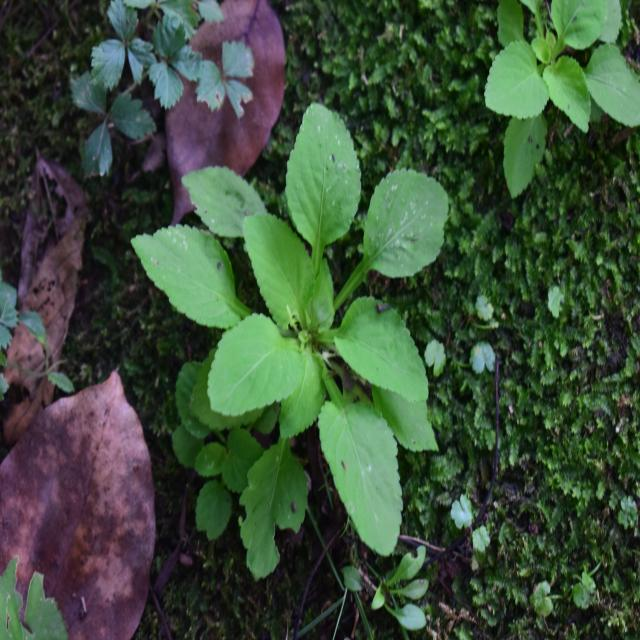Viola: (150, 118, 437, 529)
